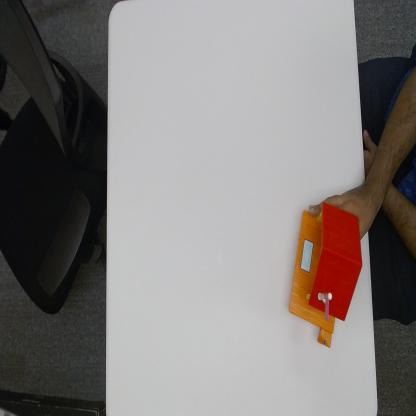House: (290, 207, 362, 346)
